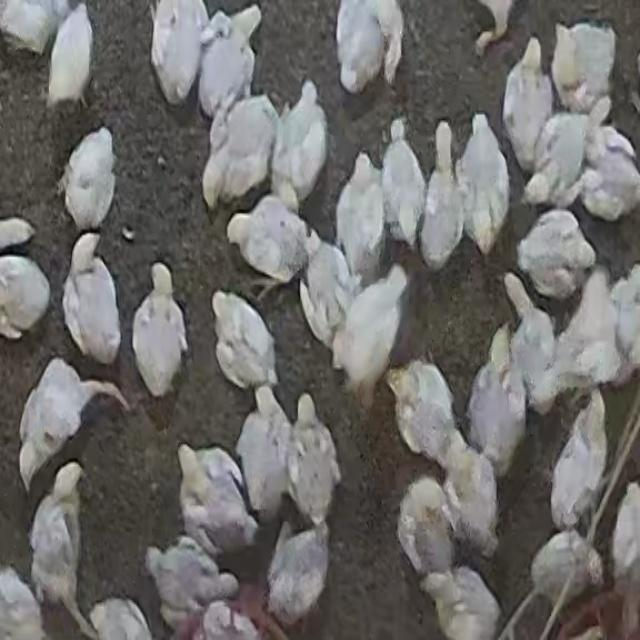chicken: (333, 262, 411, 409), (30, 462, 92, 632), (544, 266, 620, 400), (178, 438, 258, 556), (19, 360, 87, 489), (62, 234, 124, 370), (226, 194, 310, 294), (203, 94, 278, 204), (527, 99, 599, 212), (131, 262, 189, 402), (502, 275, 558, 419), (466, 337, 524, 476), (147, 535, 235, 625), (550, 392, 607, 530), (391, 357, 460, 470), (235, 390, 294, 522), (266, 515, 331, 629), (457, 112, 509, 254), (198, 8, 262, 122), (288, 394, 341, 527), (518, 207, 594, 298), (441, 438, 498, 558), (334, 150, 385, 284), (211, 289, 277, 392), (504, 36, 553, 169), (396, 476, 457, 582), (419, 130, 464, 273), (275, 79, 325, 202), (552, 19, 616, 113), (380, 120, 425, 252), (300, 232, 354, 342), (582, 119, 639, 222), (152, 0, 207, 104), (423, 566, 499, 640), (57, 124, 113, 224), (532, 534, 600, 610), (45, 5, 93, 109), (335, 0, 386, 94), (1, 254, 50, 341)
